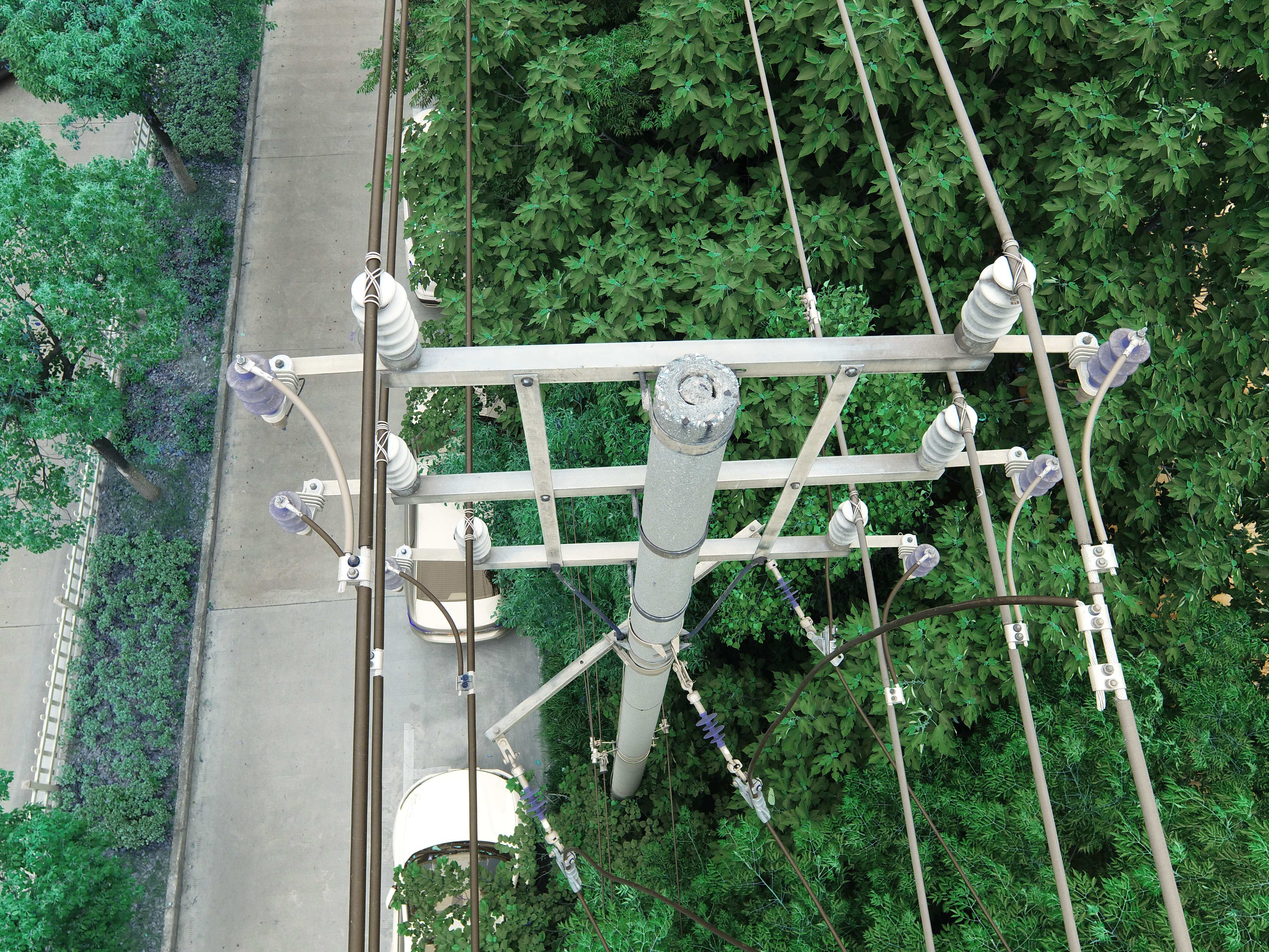severe_soiling_no_discharge_whole: (951, 250, 1038, 356), (916, 399, 980, 472), (821, 496, 875, 552), (1078, 539, 1121, 580), (1085, 659, 1130, 693), (1075, 601, 1117, 636), (335, 553, 374, 586), (1003, 619, 1033, 651), (883, 685, 906, 707), (456, 673, 476, 694), (371, 649, 386, 674), (801, 307, 820, 326), (798, 289, 816, 309)
